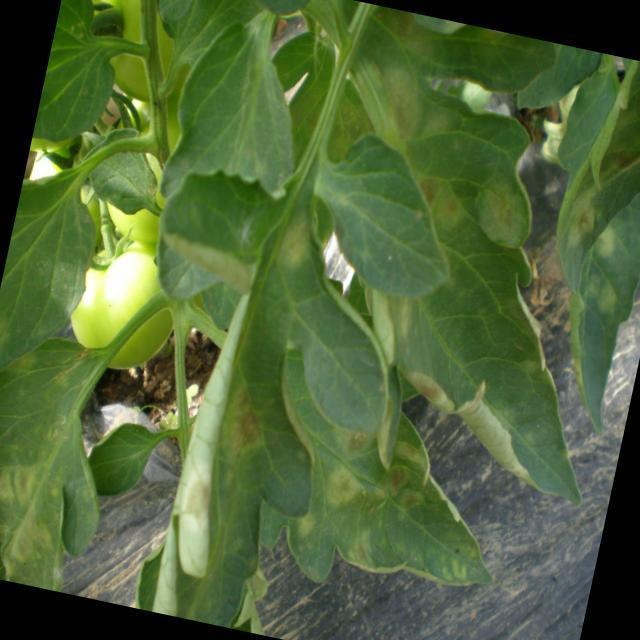Mosaic Virus: (302, 418, 450, 551), (0, 421, 75, 588)
